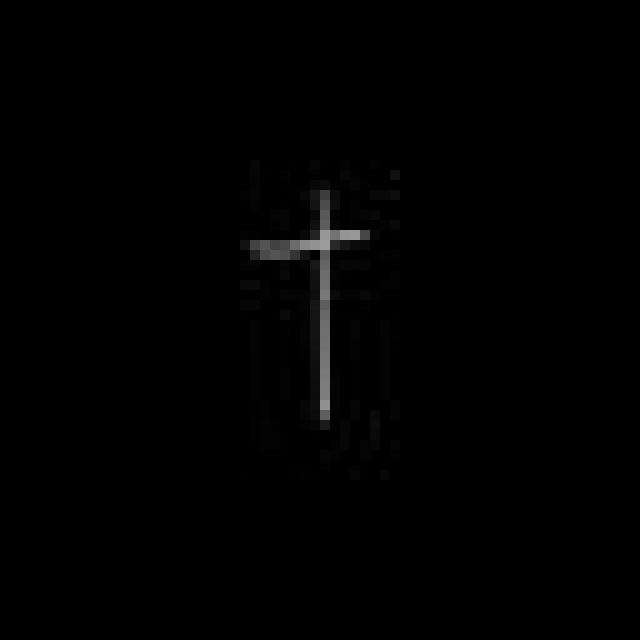10 -ten-: (231, 182, 376, 430)
